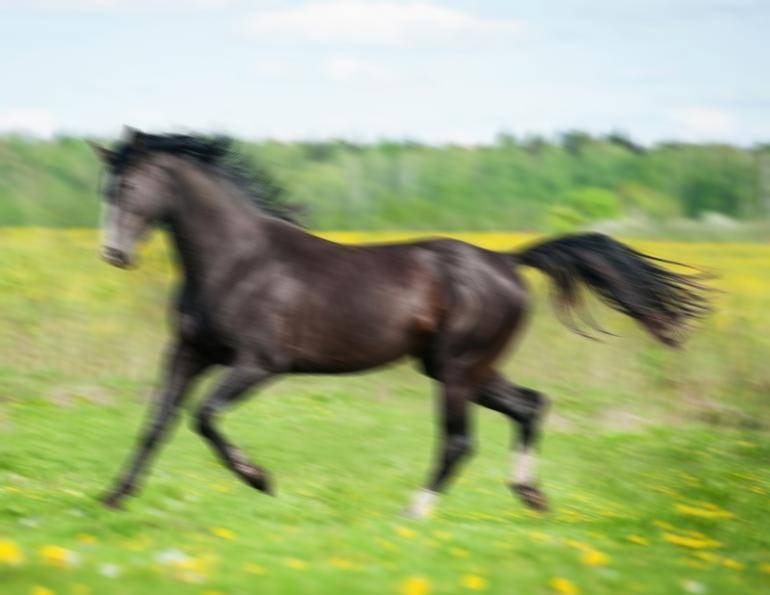horse: (74, 120, 731, 532)
